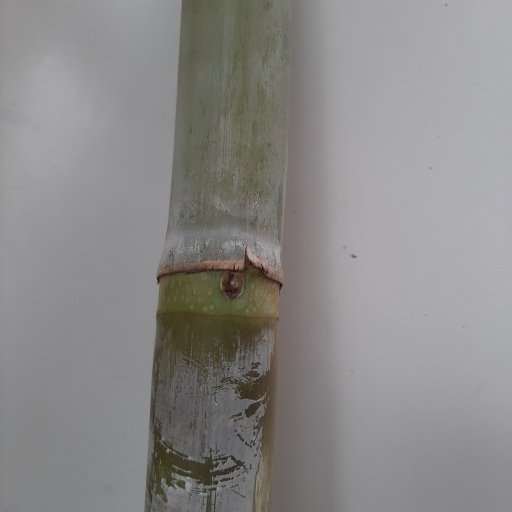Bud: (221, 270, 246, 301)
